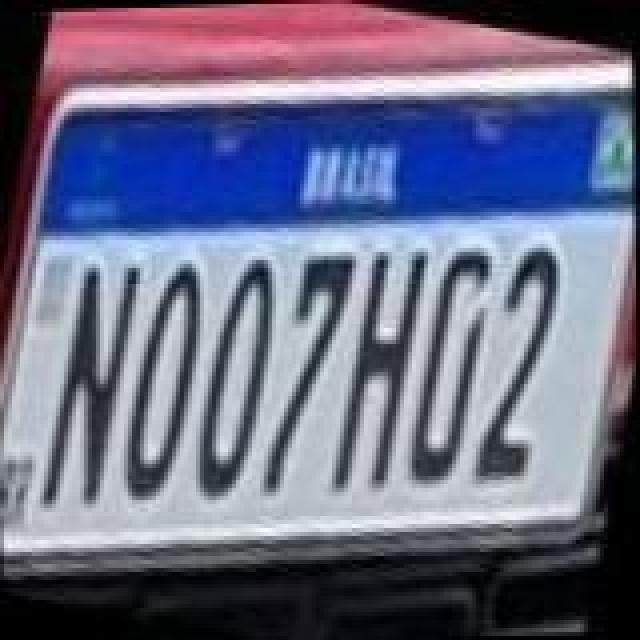2: (460, 232, 576, 488)
7: (248, 242, 364, 502)
D: (388, 236, 504, 492)
H: (318, 236, 438, 504)
N: (28, 250, 152, 518)
O: (176, 248, 300, 508), (106, 254, 226, 510)
